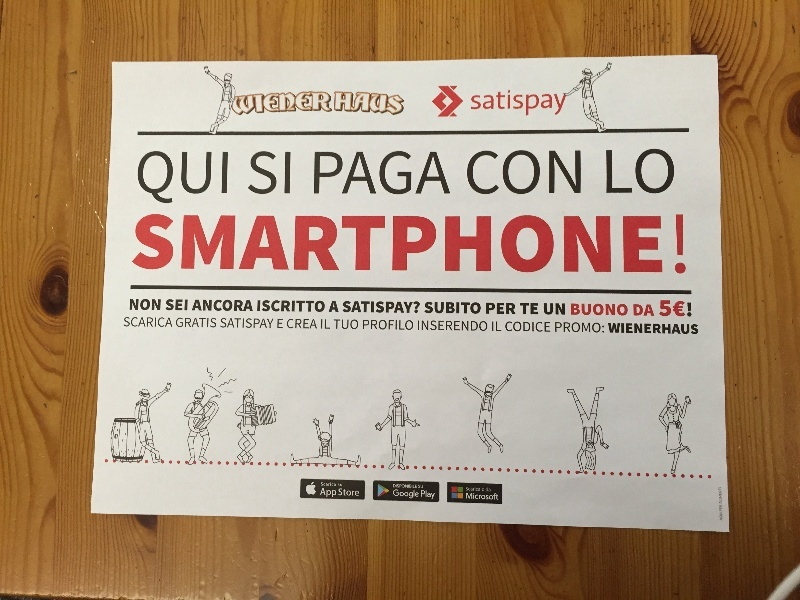text: (673, 213, 689, 278), (145, 142, 160, 207), (161, 142, 176, 207), (177, 142, 192, 207), (193, 142, 208, 207), (209, 142, 224, 207), (145, 213, 160, 278), (161, 213, 176, 278), (177, 213, 192, 278), (193, 213, 208, 278), (209, 213, 224, 278), (225, 213, 240, 278), (241, 213, 256, 278), (257, 213, 272, 278), (273, 213, 288, 278), (289, 213, 304, 278), (305, 213, 320, 278), (321, 213, 336, 278), (337, 213, 352, 278), (353, 213, 368, 278), (369, 213, 384, 278), (385, 213, 400, 278), (401, 213, 416, 278), (417, 213, 432, 278), (433, 213, 448, 278), (449, 213, 464, 278), (465, 213, 480, 278), (481, 213, 496, 278), (497, 213, 512, 278), (513, 213, 528, 278), (529, 213, 544, 278), (545, 213, 560, 278), (561, 213, 576, 278), (577, 213, 592, 278), (593, 213, 608, 278), (609, 213, 624, 278), (625, 213, 640, 278), (641, 213, 656, 278), (657, 213, 672, 278), (609, 147, 624, 197), (625, 147, 640, 197), (641, 147, 656, 197), (657, 147, 672, 197), (465, 148, 480, 197), (481, 148, 496, 197), (497, 148, 512, 197), (513, 148, 528, 197), (529, 148, 544, 197), (545, 148, 560, 197), (561, 148, 576, 197), (321, 150, 336, 198), (337, 150, 352, 198), (353, 150, 368, 198), (369, 150, 384, 198), (385, 150, 400, 198), (401, 150, 416, 198), (417, 150, 432, 198), (433, 150, 448, 198), (257, 150, 272, 197), (273, 150, 288, 197), (134, 213, 144, 278), (138, 142, 144, 207), (312, 150, 320, 198), (241, 93, 256, 118), (257, 93, 272, 118), (273, 93, 288, 118), (289, 93, 304, 118), (305, 93, 320, 118), (321, 93, 336, 118), (337, 93, 352, 118), (353, 93, 368, 118), (369, 93, 384, 118), (385, 93, 400, 118), (481, 92, 496, 116), (497, 92, 512, 116), (513, 92, 528, 116), (529, 92, 544, 116), (545, 92, 560, 116), (249, 150, 256, 197), (673, 299, 688, 319), (577, 148, 583, 197), (225, 142, 229, 207), (545, 301, 560, 318), (577, 302, 592, 319), (593, 302, 608, 319), (609, 302, 624, 319), (129, 297, 144, 313), (145, 297, 160, 313), (497, 301, 512, 317), (433, 301, 448, 317), (449, 301, 464, 317), (465, 301, 480, 317), (660, 299, 672, 319), (193, 299, 208, 314), (209, 299, 224, 314), (225, 299, 240, 314), (353, 300, 368, 315), (369, 300, 384, 315), (385, 300, 400, 315), (401, 300, 416, 315), (497, 302, 512, 317), (641, 302, 655, 318), (471, 92, 480, 116), (321, 488, 336, 502), (337, 488, 352, 502), (257, 300, 272, 314), (273, 300, 288, 314), (289, 300, 304, 314), (305, 300, 320, 314), (232, 93, 240, 118), (241, 299, 254, 314), (337, 319, 352, 332), (561, 321, 576, 334), (577, 321, 592, 334), (289, 150, 293, 197), (433, 319, 448, 331), (449, 319, 464, 331), (465, 319, 480, 331), (609, 323, 624, 335), (625, 323, 640, 335), (641, 323, 656, 335), (657, 323, 672, 335), (673, 323, 688, 335), (177, 299, 189, 314), (485, 301, 496, 317), (529, 302, 540, 318), (418, 319, 432, 331), (561, 92, 568, 116), (129, 317, 144, 328), (145, 317, 160, 328), (177, 318, 192, 329), (193, 318, 208, 329), (225, 318, 240, 329), (241, 318, 256, 329), (257, 318, 272, 329), (369, 319, 384, 330), (385, 319, 400, 330), (513, 322, 528, 333), (529, 322, 544, 333), (593, 321, 605, 334), (605, 147, 608, 197), (289, 319, 304, 329), (401, 490, 416, 500), (486, 302, 496, 317), (401, 319, 414, 330), (321, 319, 331, 333), (481, 492, 496, 501), (167, 299, 176, 314), (343, 300, 352, 315), (161, 317, 173, 328), (305, 319, 318, 329), (520, 302, 528, 318), (353, 488, 362, 502), (466, 492, 480, 501), (328, 300, 336, 315), (689, 323, 699, 335), (420, 490, 432, 500), (633, 302, 640, 318), (425, 301, 432, 317), (273, 318, 283, 329), (561, 301, 567, 318), (401, 93, 405, 118), (673, 147, 675, 197), (689, 299, 694, 319), (449, 150, 451, 198), (209, 318, 217, 329), (571, 302, 576, 319), (481, 319, 488, 331), (392, 490, 400, 500), (353, 319, 359, 332), (554, 321, 560, 334), (505, 322, 512, 333), (401, 484, 416, 489), (321, 300, 326, 314), (331, 301, 336, 315), (466, 487, 480, 492), (625, 302, 629, 319), (497, 321, 503, 332), (545, 322, 551, 333), (419, 484, 432, 489), (513, 301, 517, 317), (417, 300, 421, 315), (513, 302, 517, 317), (321, 483, 336, 487), (337, 301, 341, 315), (338, 483, 352, 487), (363, 319, 368, 330), (486, 487, 496, 492), (337, 300, 340, 315), (124, 317, 128, 328), (220, 318, 224, 329), (492, 321, 496, 332), (317, 488, 320, 502), (393, 484, 400, 489), (161, 297, 163, 313), (417, 490, 420, 500), (433, 490, 436, 500), (334, 319, 336, 332), (481, 487, 485, 492), (497, 492, 499, 501), (543, 301, 544, 318), (481, 301, 482, 317), (417, 484, 418, 489)
